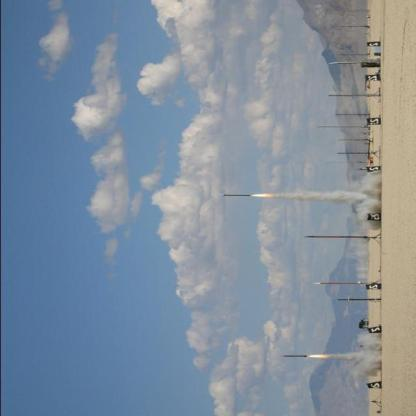MIL_TBM: (304, 234, 369, 240), (214, 193, 249, 198), (326, 62, 366, 66), (310, 282, 363, 285), (280, 356, 308, 358)
